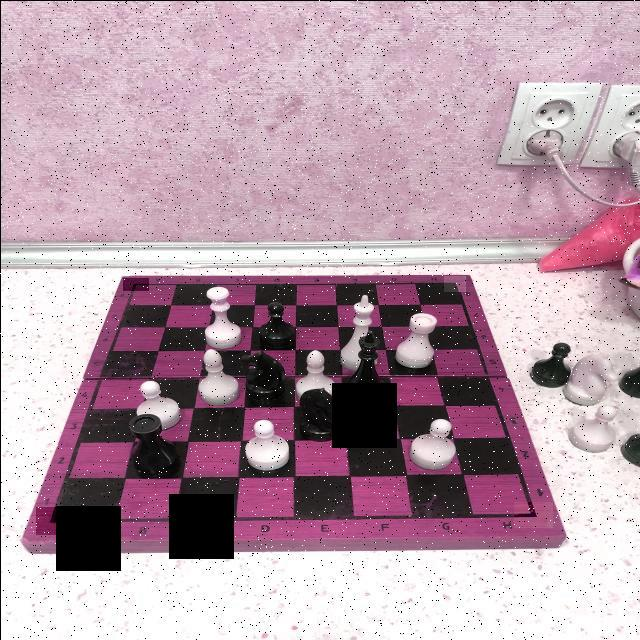chess-table-corners: (35, 506, 76, 534), (513, 501, 552, 527), (444, 275, 466, 291), (122, 277, 148, 290)
